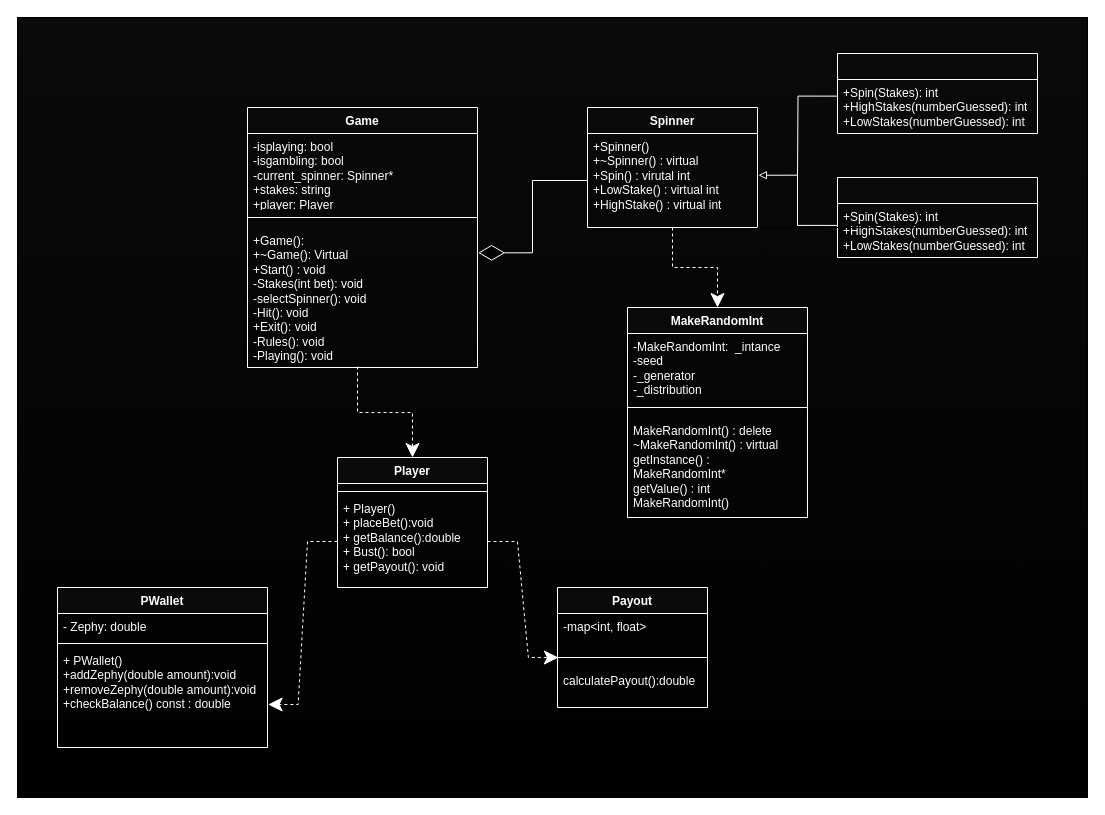
The diagram is 1105 pixels wide and 815 high, and some of its shapes have lost their labels. The box of each missing label's shape, as (x1, y1, x2, y2) in pixels:
Spinner_0to7: (836, 176, 1038, 258)
Spinner_2to5: (836, 52, 1038, 134)
